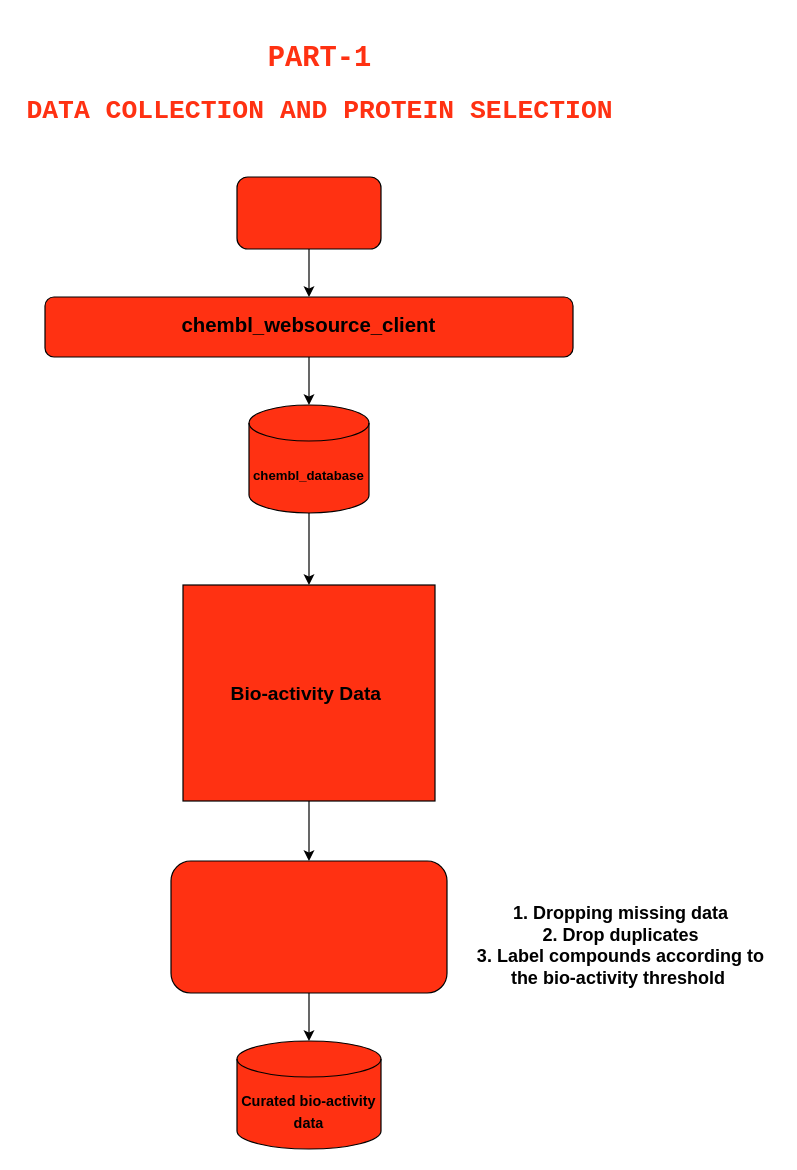
The diagram is 797 pixels wide and 1170 high, and some of its shapes have lost their labels. The box of each missing label's shape, as (x1, y1, x2, y2) in pixels:
Data pre-processing: (170, 860, 447, 993)
TARGET PROTEIN SEARCH: (236, 176, 381, 249)
